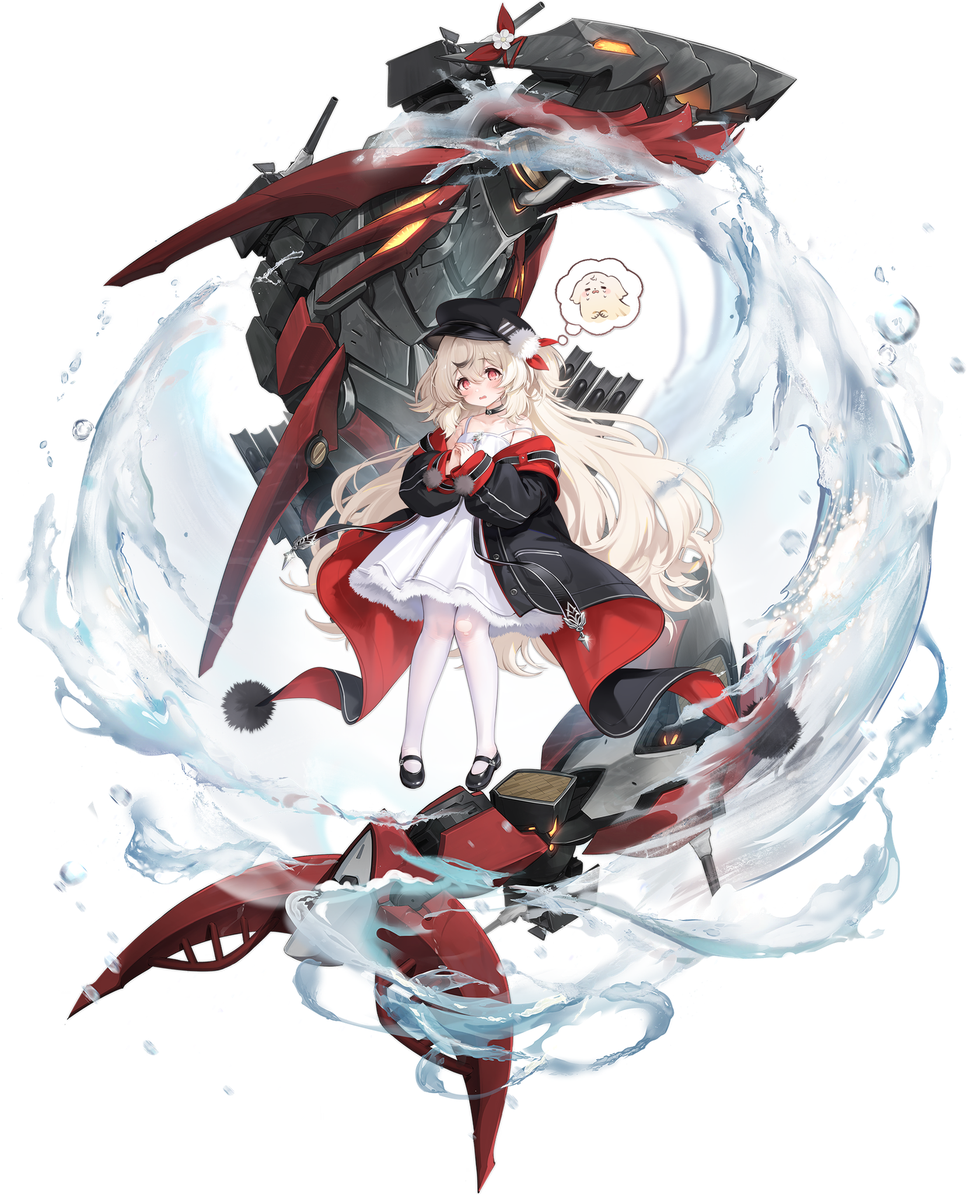person: (301, 249, 720, 822)
